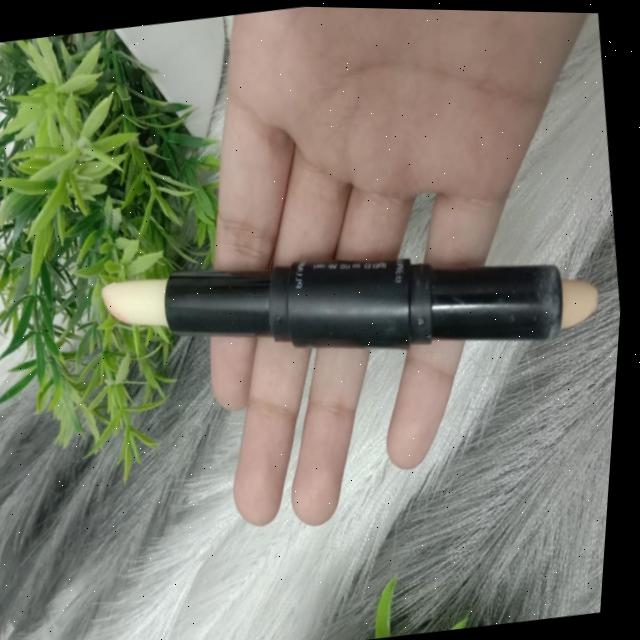concealer: (88, 177, 631, 441)
